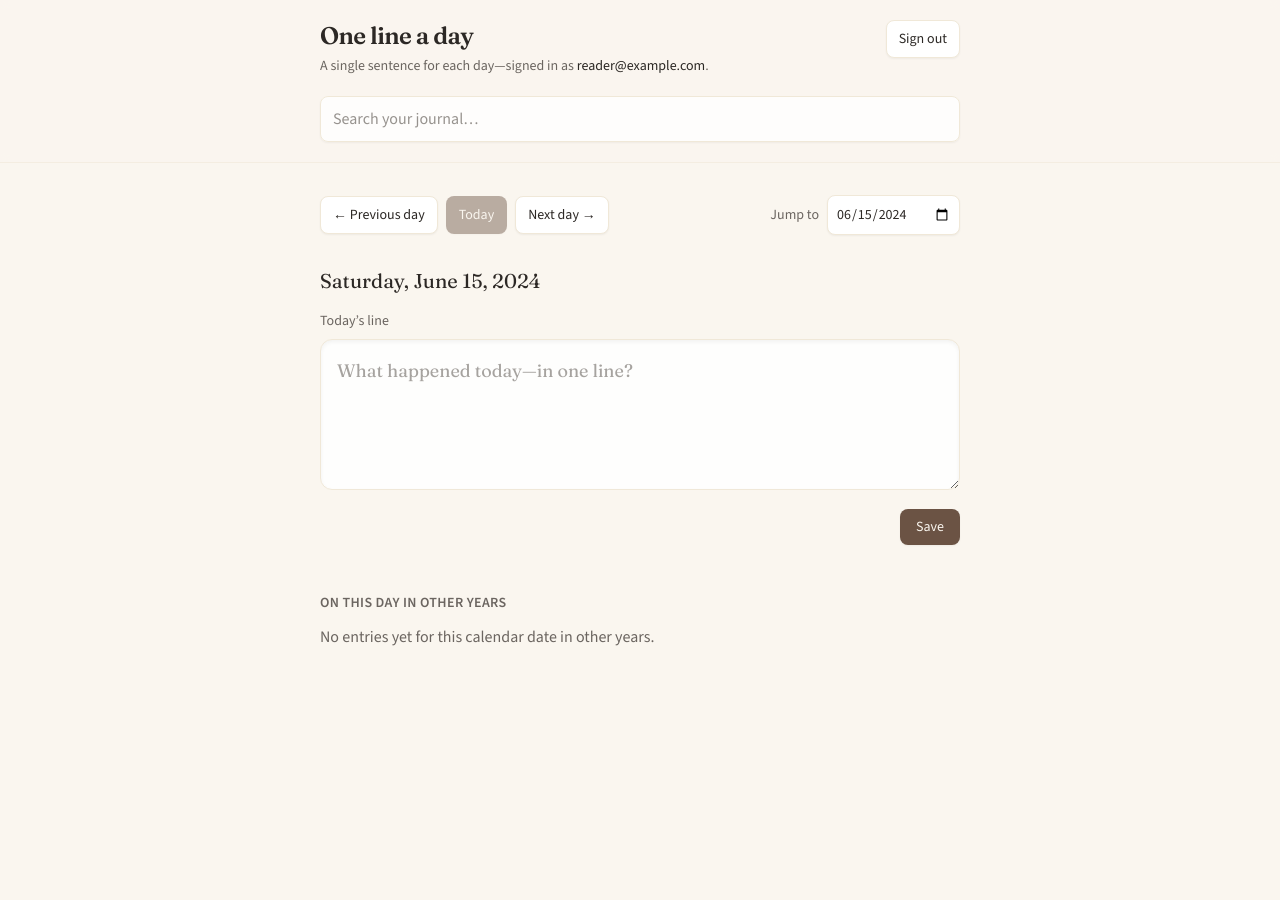
Test case: App › lists search hits and jumps to a chosen day
This screenshot has width=1280, height=900.
Type "clover" into the search field with placeholder "Search your journal…". click: x=640, y=119
box: [320,96,960,142]
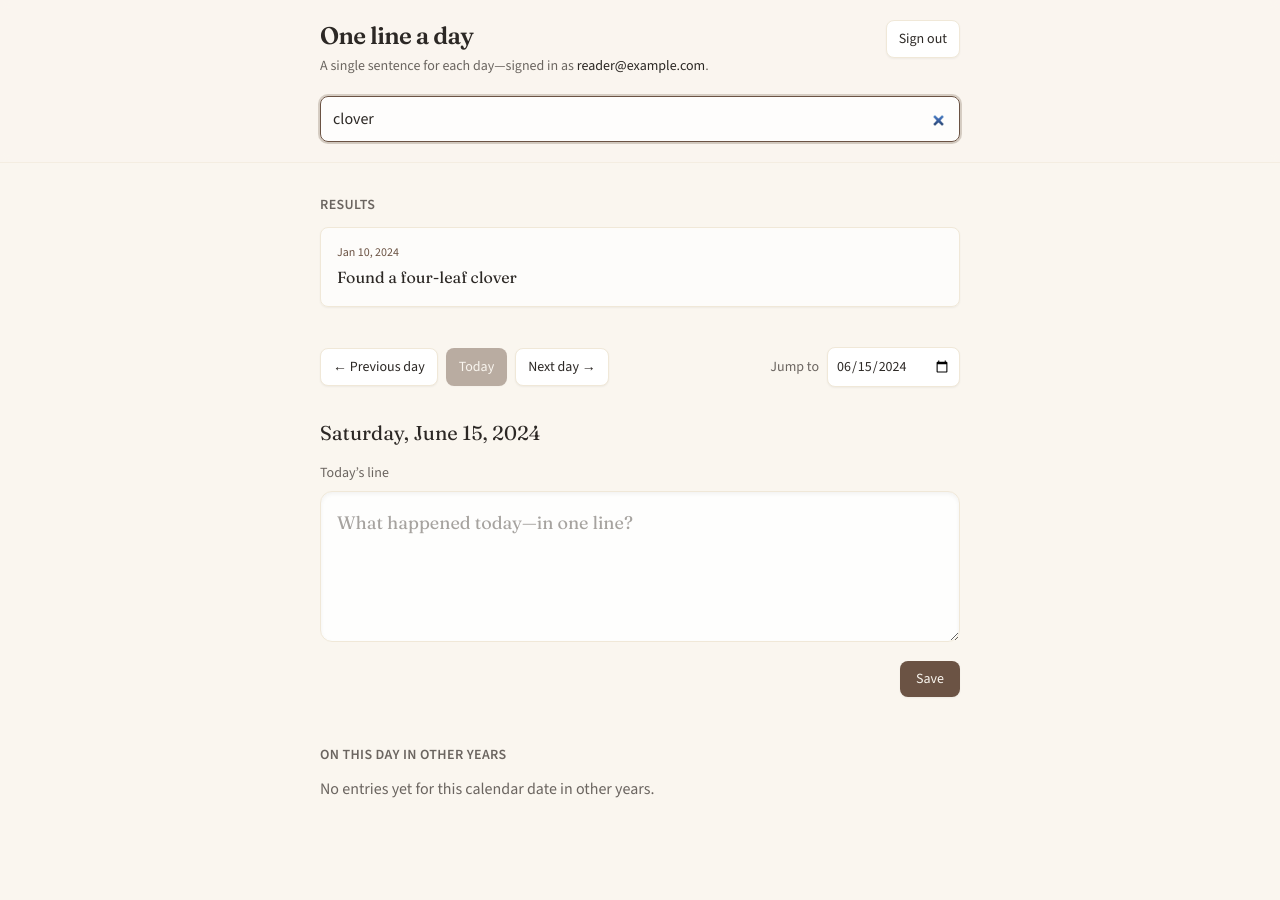
Expected: the text "Found a four-leaf clover" is shown, [337,267,517,287]
Click the button "Jan 10, 2024 Found a four-leaf clover". click: x=368, y=252
box: [320,227,960,307]
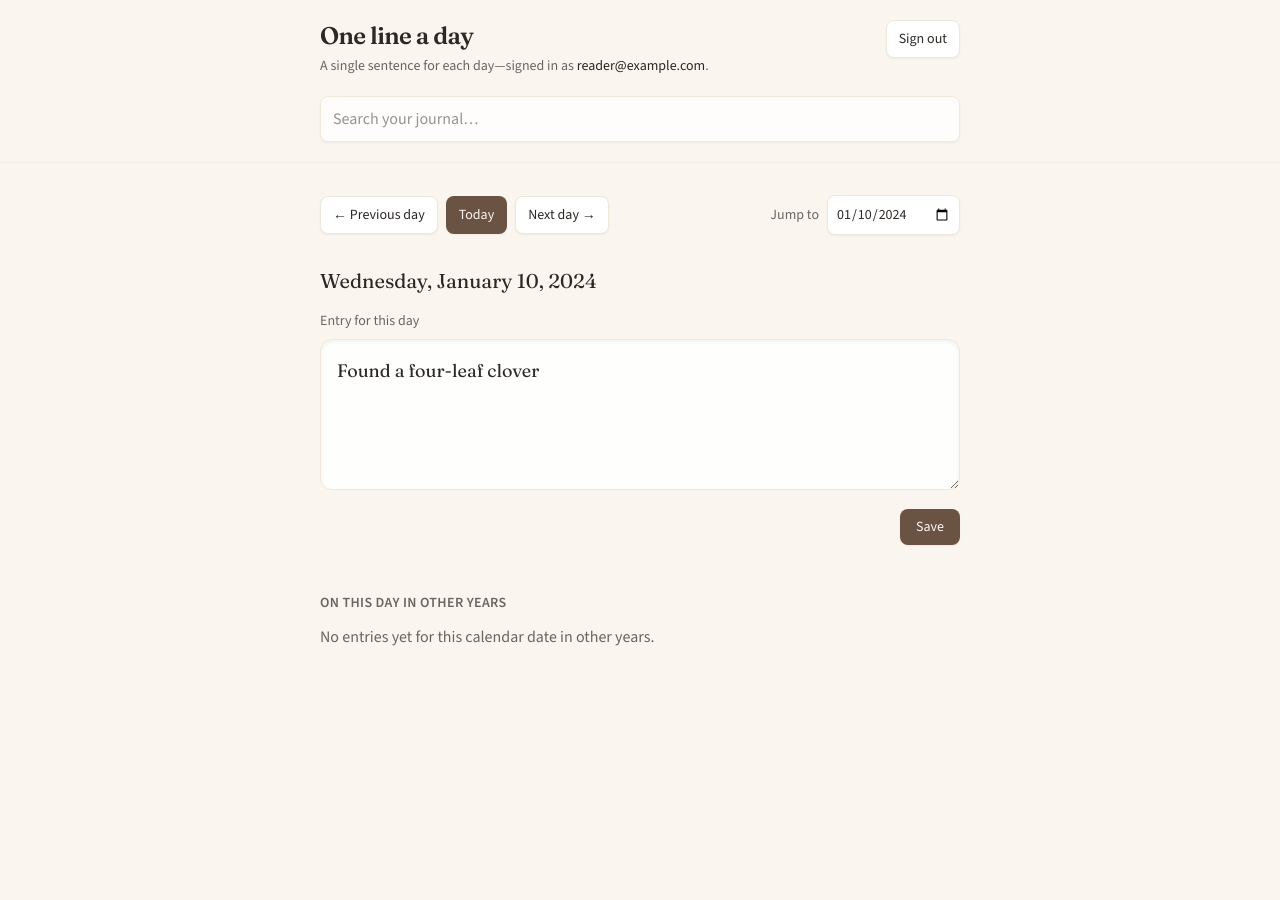
Expected: the date field labelled "Jump to" holds "2024-01-10", [827,195,960,235]
Expected: the text box with placeholder "What happened today—in one line?" holds "Found a four-leaf clover", [320,339,960,490]
